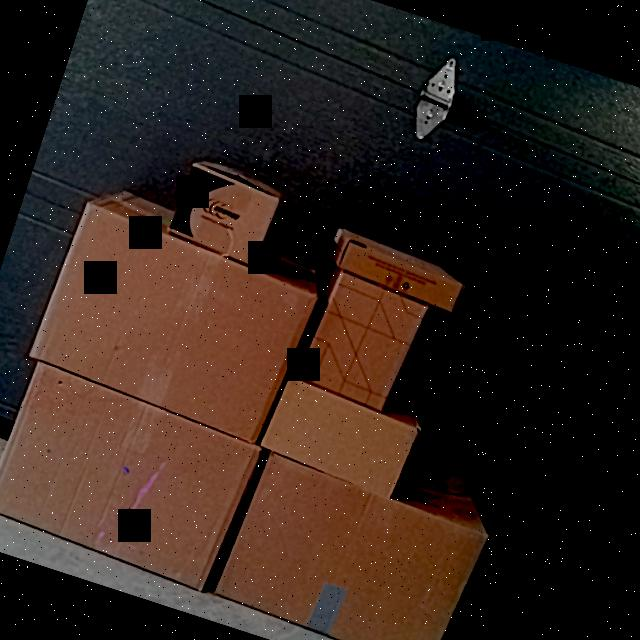box: (34, 210, 316, 438), (0, 367, 263, 587), (219, 459, 480, 640), (264, 376, 418, 494), (300, 274, 426, 412), (167, 161, 280, 269), (334, 244, 464, 308)
